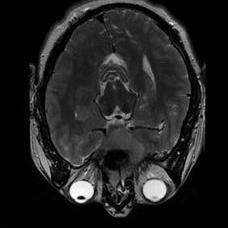Normal_Brain: (3, 1, 228, 228)
